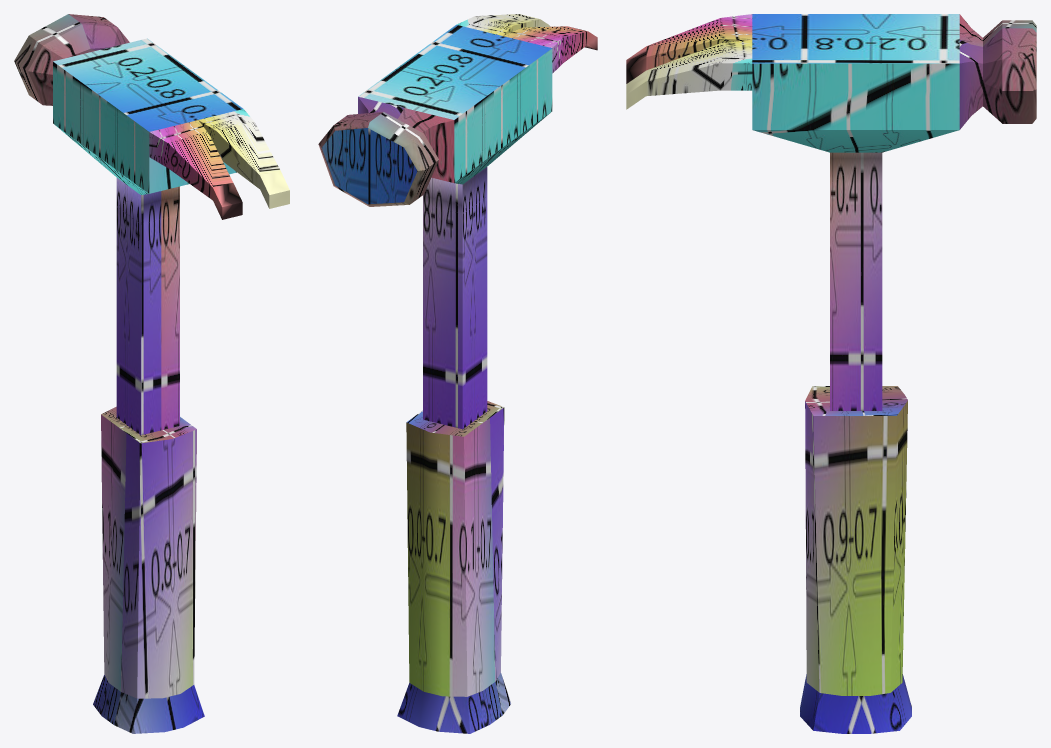
Rendered from hammer.obj.
The picture shows the model from 3 angles, left to right: view 1: azimuth 30°, elevation 25°; view 2: azimuth 150°, elevation 25°; view 3: azimuth 270°, elevation 25°; orthographic projection. The views are drawn at different scales.
Parts seen in each view (by area): view 1: pCube1; view 2: pCube1; view 3: pCube1.
Boxes of the visible parts, box(x1,y1,x2,y2) form: pCube1: box(14, 14, 289, 733); pCube1: box(318, 14, 597, 733); pCube1: box(626, 14, 1036, 733).
Size of the model in its own units: 1.84 by 10.68 by 5.8.
1 material, 1 textured.
